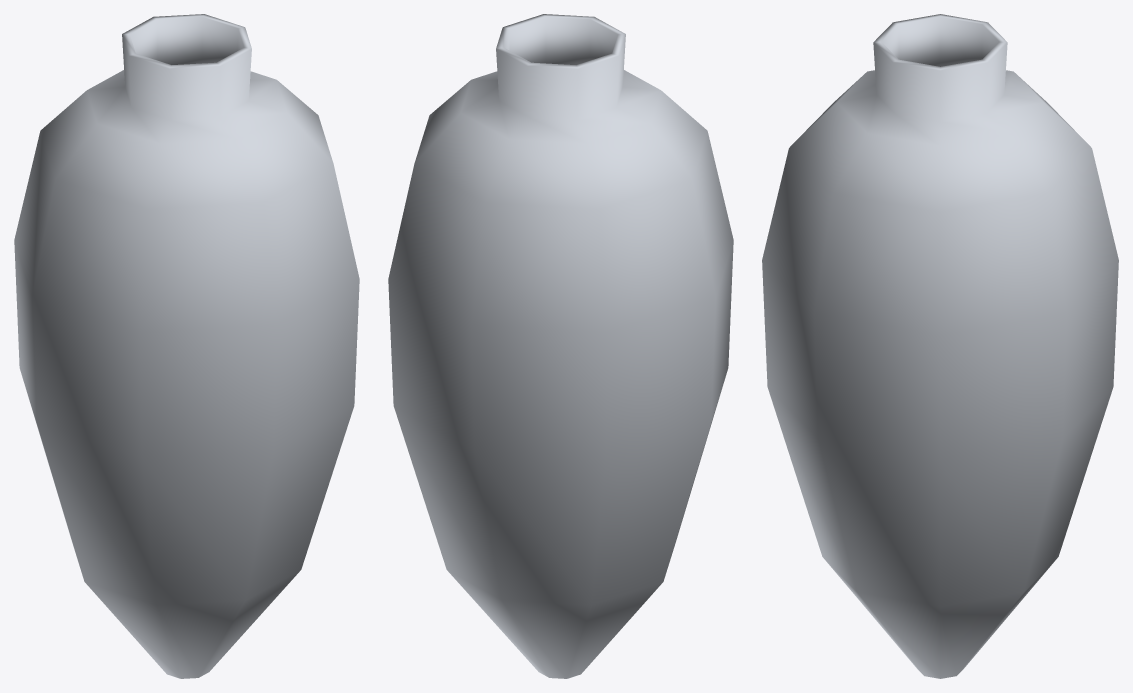
The model's file is bottle_glassware_pear_shaped_flask_large.glb.
The picture shows the model from 3 angles, left to right: view 1: azimuth 30°, elevation 25°; view 2: azimuth 150°, elevation 25°; view 3: azimuth 270°, elevation 25°; orthographic projection.
Visible parts, largest first — view 1: bottle_glassware_pear_shaped_flask_large; view 2: bottle_glassware_pear_shaped_flask_large; view 3: bottle_glassware_pear_shaped_flask_large.
Part boxes in pixels (x1=…): bottle_glassware_pear_shaped_flask_large: x1=14, y1=14, x2=359, y2=678; bottle_glassware_pear_shaped_flask_large: x1=388, y1=14, x2=733, y2=678; bottle_glassware_pear_shaped_flask_large: x1=762, y1=14, x2=1118, y2=678.
Size of the model in its own units: 17.5 by 33.93 by 17.5.
1 material, 1 textured.
